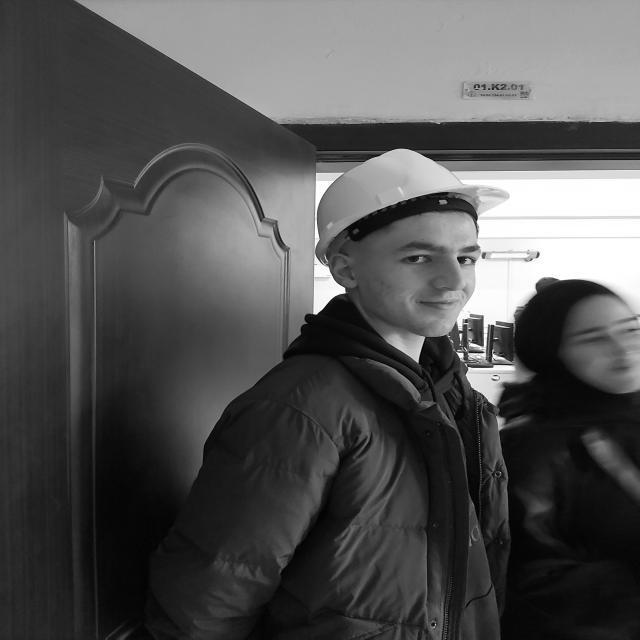safety_helmet: (315, 149, 508, 265)
